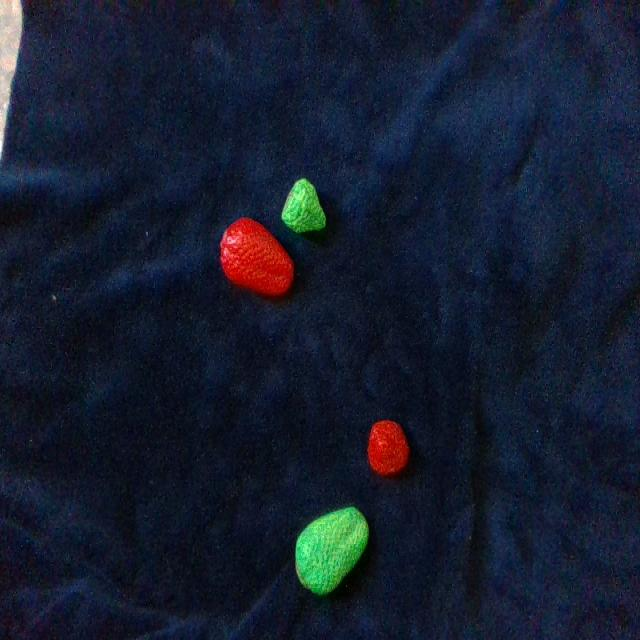chica_roja: (367, 421, 409, 475)
grande_roja: (220, 217, 293, 295)
verde: (296, 507, 368, 593), (282, 179, 325, 232)
